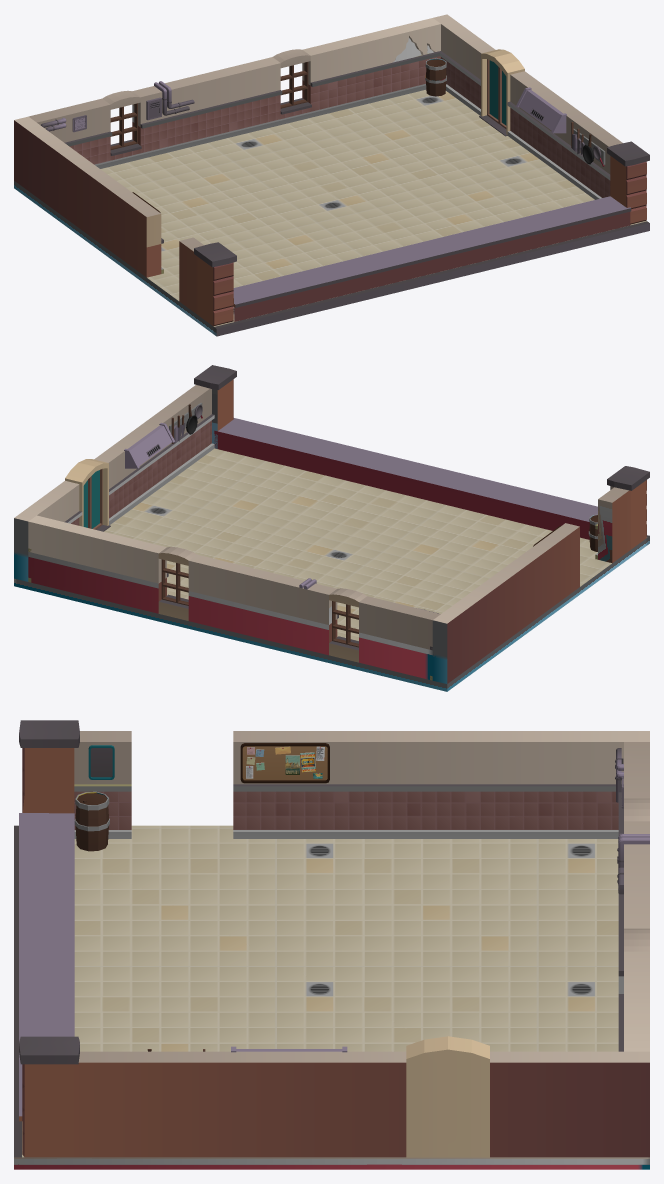
Rendered from 3D_lvl01-kitchen.fbx.
3 renders of one model, top to bottom at view 1: azimuth 30°, elevation 25°; view 2: azimuth 150°, elevation 25°; view 3: azimuth 270°, elevation 25°, orthographic. The views are drawn at different scales.
Parts seen in each view (by area): view 1: Cube.003, Cube, Cube.007, Cube.079, Cube.002, Cube.004; view 2: Cube.003, Cube, Cube.007, Cube.002; view 3: Cube.003, Cube, Cube.028, Cube.080, Cube.070, Cube.004.
Part boxes in pixels (x1,y1,x2,y2): Cube.003: [14, 14, 649, 326]; Cube: [14, 90, 649, 336]; Cube.007: [516, 87, 566, 133]; Cube.079: [425, 58, 446, 96]; Cube.002: [571, 122, 605, 166]; Cube.004: [154, 81, 194, 115]; Cube.003: [14, 365, 649, 683]; Cube: [14, 448, 649, 691]; Cube.007: [124, 422, 174, 468]; Cube.002: [169, 402, 202, 443]; Cube.003: [19, 720, 649, 1157]; Cube: [14, 825, 649, 1169]; Cube.028: [240, 743, 329, 783]; Cube.080: [74, 791, 109, 851]; Cube.070: [88, 745, 114, 779]; Cube.004: [617, 834, 649, 894].
Bounding box in the file's own units: 15.15 × 2.53 × 12.16.
